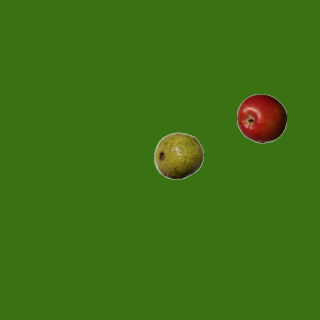Apple Braeburn: (236, 93, 286, 143)
Guava: (153, 130, 203, 180)
